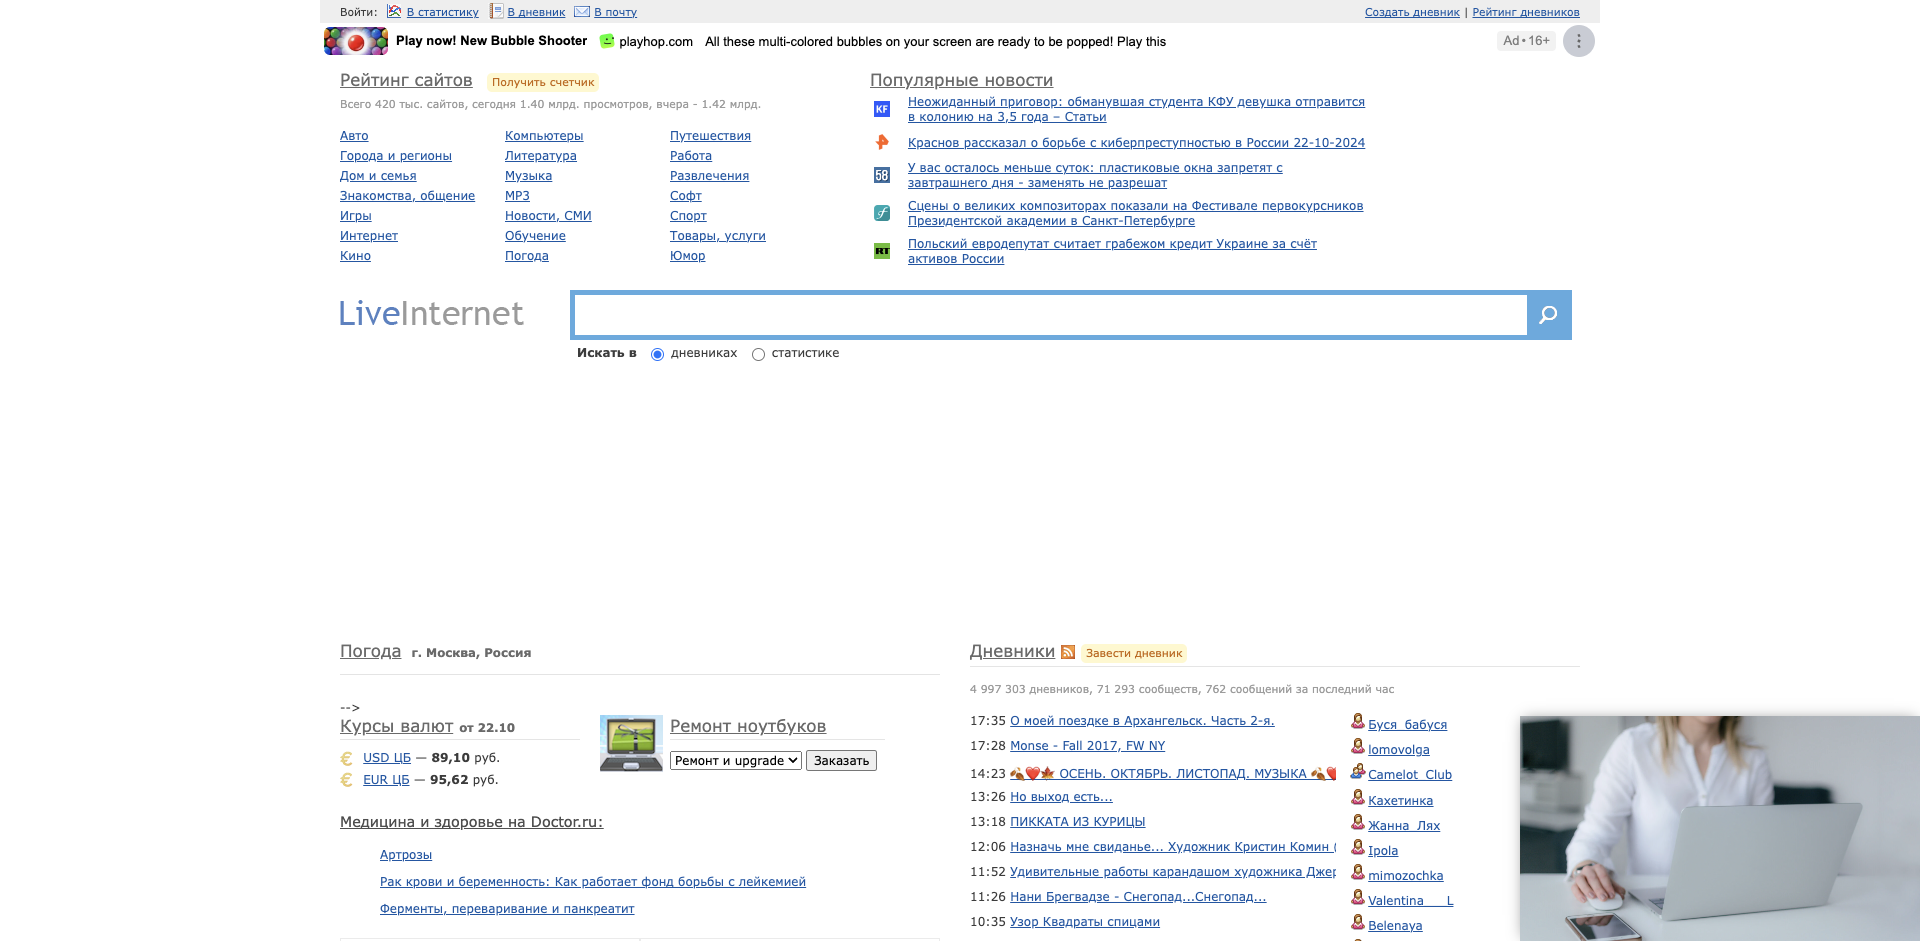dropdown: (670, 751, 802, 769)
input: (580, 303, 1521, 325), (1527, 295, 1567, 334), (806, 750, 878, 771)
label: (771, 346, 839, 360), (671, 346, 737, 360)
link: (909, 94, 1367, 124), (909, 161, 1367, 190), (909, 198, 1367, 228), (909, 236, 1367, 266), (1010, 864, 1487, 879), (1010, 838, 1444, 854), (909, 135, 1367, 149), (380, 875, 806, 890), (1010, 766, 1356, 780), (340, 814, 604, 831), (1010, 713, 1275, 728), (871, 69, 1053, 89), (1010, 888, 1266, 903), (380, 902, 634, 916), (670, 716, 827, 736), (340, 69, 473, 89), (340, 716, 453, 736), (1010, 738, 1166, 752), (1010, 914, 1160, 929), (1010, 814, 1146, 828), (340, 187, 475, 202), (970, 640, 1056, 660), (340, 147, 452, 163), (387, 2, 479, 20), (1010, 789, 1113, 804), (1473, 5, 1580, 18), (670, 228, 767, 243), (504, 207, 591, 223), (492, 75, 594, 88), (1368, 892, 1453, 908), (487, 2, 566, 20), (1086, 646, 1183, 659), (340, 640, 402, 660), (1365, 5, 1460, 18), (1368, 767, 1452, 782), (670, 127, 752, 142), (504, 127, 584, 142), (670, 168, 749, 183), (1368, 717, 1447, 731), (504, 147, 577, 163), (340, 168, 416, 183), (1368, 867, 1444, 882), (574, 2, 637, 20), (1368, 817, 1440, 832), (1368, 793, 1434, 807), (1368, 741, 1430, 756), (504, 228, 566, 243), (340, 228, 398, 243), (1368, 918, 1423, 932), (380, 848, 432, 863), (504, 168, 552, 183), (364, 750, 411, 765), (670, 147, 713, 163), (364, 772, 409, 787), (504, 248, 549, 262), (670, 207, 707, 223), (670, 248, 705, 262), (340, 207, 372, 223), (670, 187, 702, 202), (340, 248, 371, 262), (1368, 843, 1398, 858), (340, 127, 369, 142), (504, 187, 530, 202), (1348, 892, 1368, 908), (1348, 717, 1368, 731), (1348, 741, 1368, 756), (1348, 767, 1368, 782), (1348, 793, 1368, 807), (1348, 817, 1368, 832), (1348, 843, 1368, 858), (1348, 867, 1368, 882), (1348, 918, 1368, 932), (1010, 939, 1109, 941), (1062, 646, 1075, 659)
radio: (651, 348, 664, 361), (752, 348, 764, 361)
